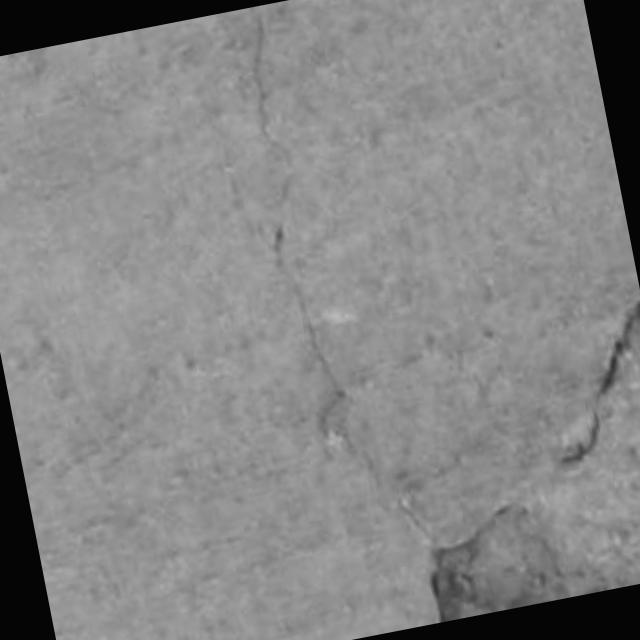crack: (269, 223, 384, 491), (271, 225, 360, 454), (560, 301, 639, 467), (249, 6, 274, 142), (558, 410, 600, 468)
